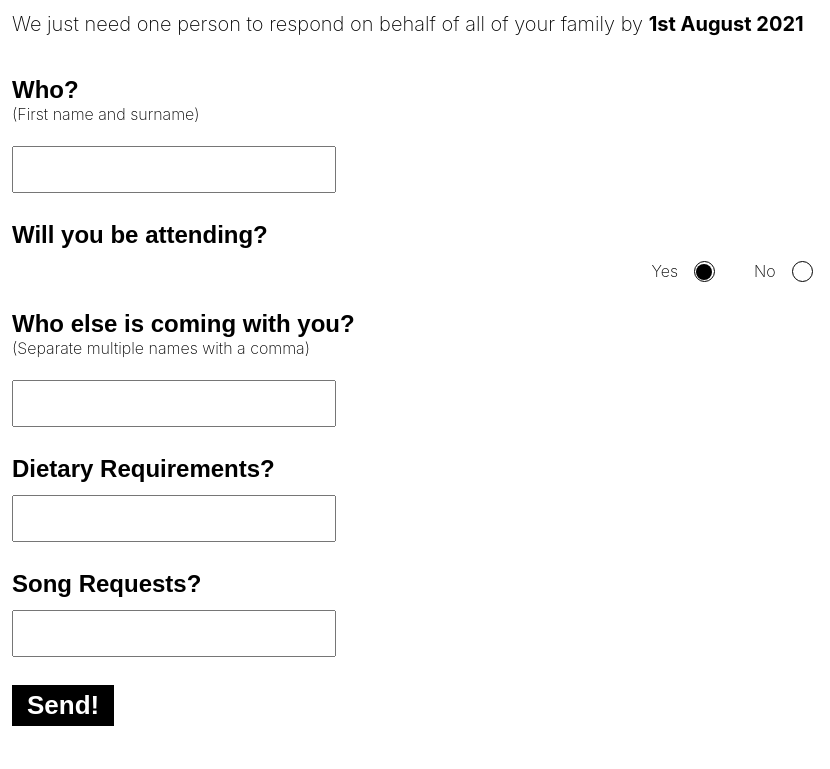
Scenario: Rsvp component › should display validation message when invalid name used
The width and height of the screenshot is (830, 769).
(page scrolled)
Click the button "Send!": [63, 706] box [12,685,114,726]
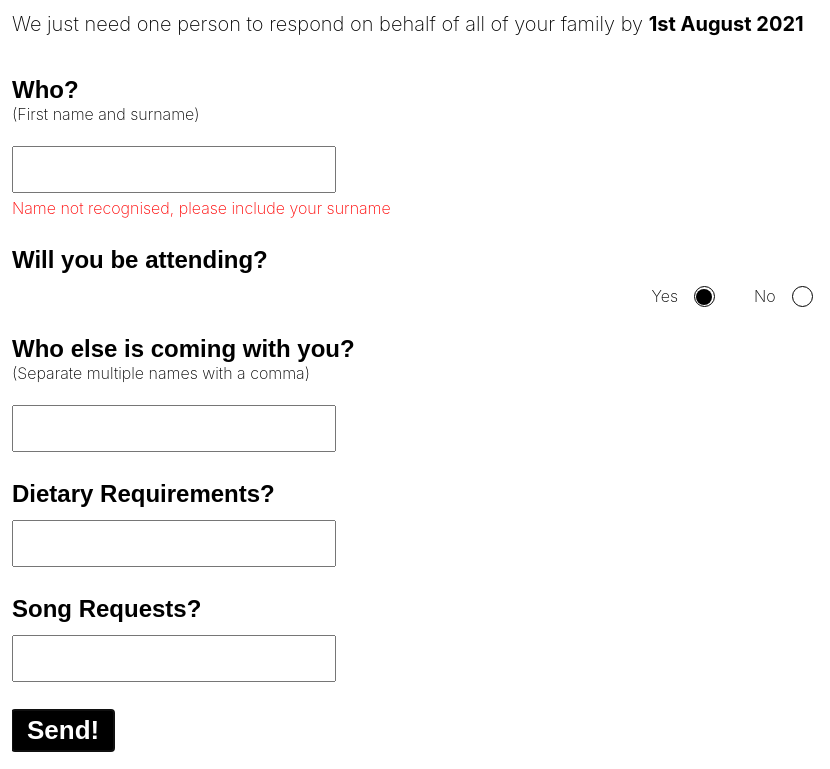
expect the text "Name not recognised, please include your surname" is shown: met, box [12,198,391,218]
